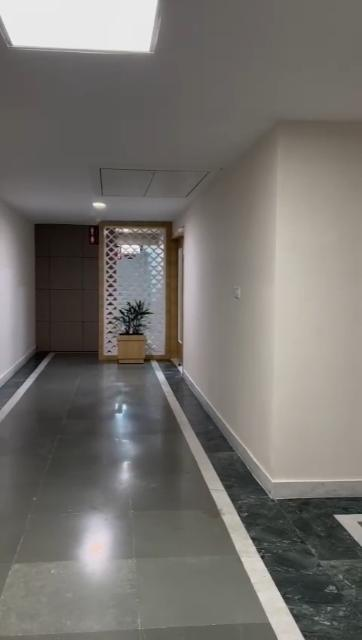door: (167, 240, 185, 358)
floor: (0, 352, 362, 639)
object: (115, 299, 151, 366)
wall: (268, 127, 362, 479), (186, 134, 269, 471), (0, 209, 37, 384)
